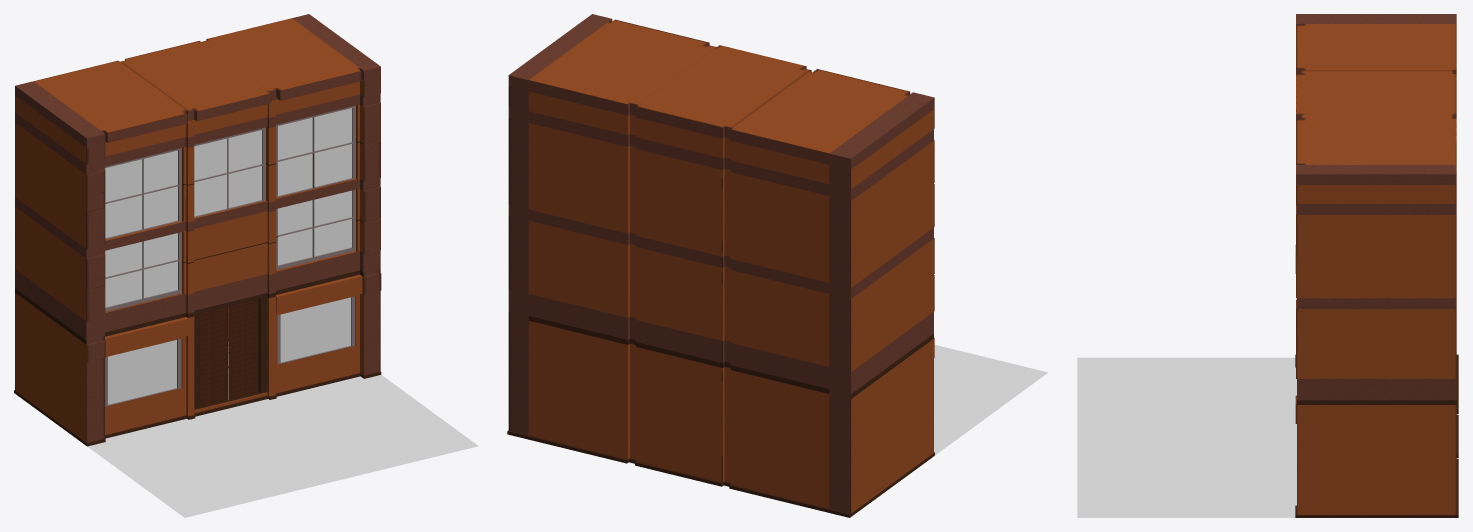
Rendered from FillerBuilding.fbx.
The picture shows the model from 3 angles, left to right: view 1: azimuth 30°, elevation 25°; view 2: azimuth 150°, elevation 25°; view 3: azimuth 270°, elevation 25°; orthographic projection. The views are drawn at different scales.
Parts seen in each view (by area): view 1: Cube.014, Plane.008; view 2: Cube.014, Plane.008; view 3: Cube.014, Plane.008.
Part boxes in pixels (x1,y1,x2,y2): Cube.014: [14, 14, 381, 446]; Plane.008: [87, 342, 478, 517]; Cube.014: [507, 14, 934, 517]; Plane.008: [628, 345, 1048, 487]; Cube.014: [1295, 14, 1458, 517]; Plane.008: [1077, 357, 1296, 517].
Size of the model in its own units: 2000 by 2000 by 2011.
6 materials, 3 textured.
